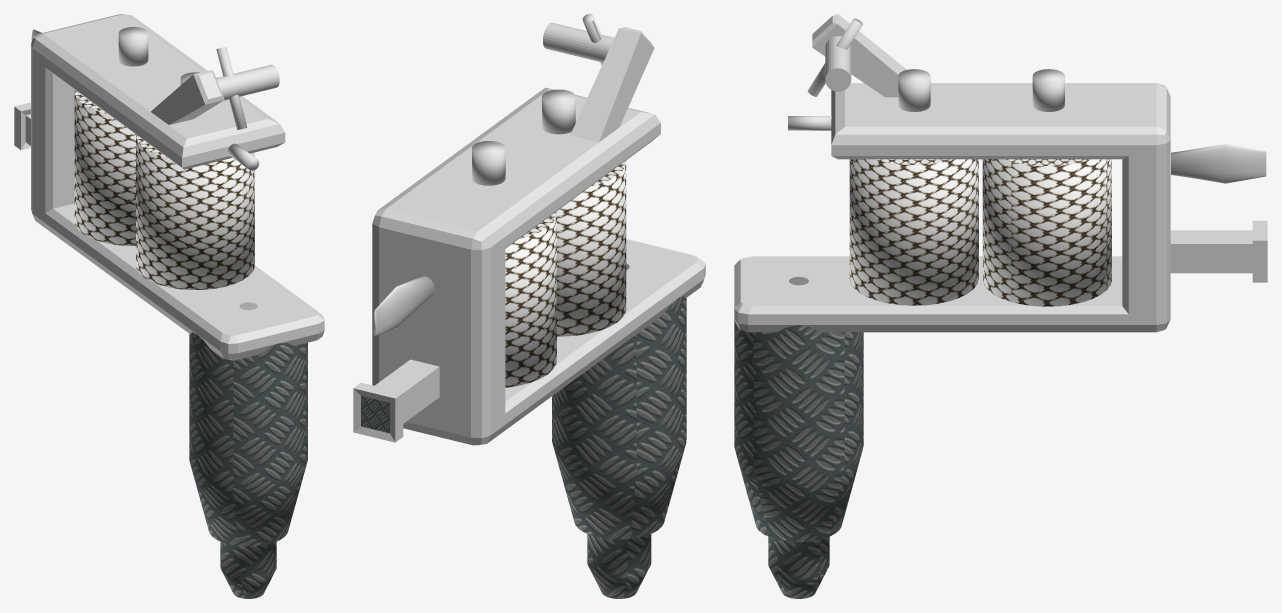
Rendered from Gun.fbx.
The picture shows the model from 3 angles, left to right: view 1: azimuth 30°, elevation 25°; view 2: azimuth 150°, elevation 25°; view 3: azimuth 270°, elevation 25°; orthographic projection. The views are drawn at different scales.
Parts seen in each view (by area): view 1: Cylinder; view 2: Cylinder; view 3: Cylinder.
Boxes of the visible parts, left/top/right/bottom form: Cylinder: left=14, top=14, right=324, bottom=598; Cylinder: left=353, top=14, right=705, bottom=598; Cylinder: left=734, top=14, right=1267, bottom=598.
Size of the model in its own units: 200 by 977 by 825.
